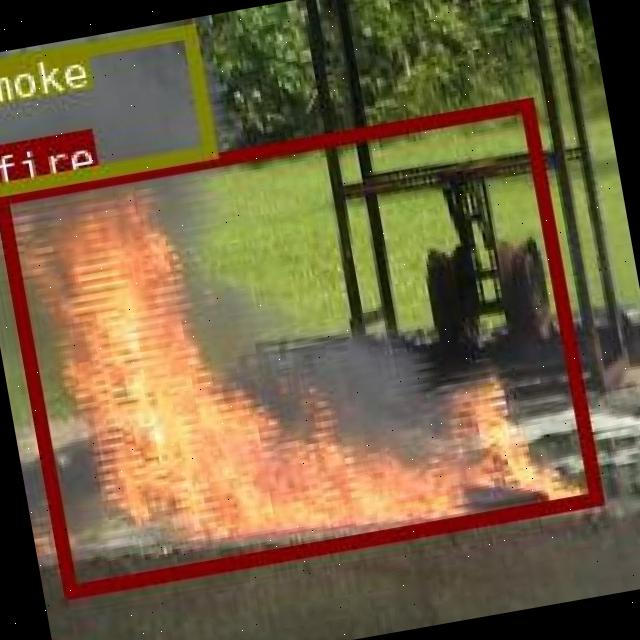fire: (0, 97, 600, 597)
smoke: (0, 22, 214, 197)
